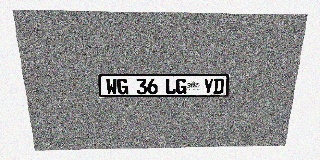plate: (98, 74, 230, 97)
